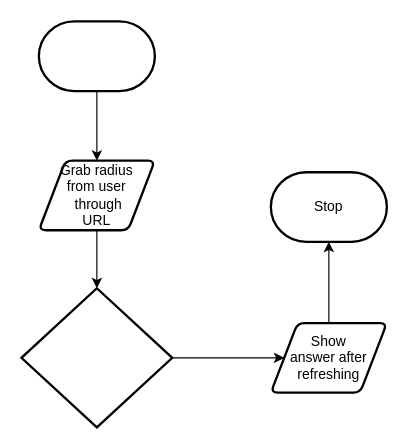
Image size: 407x448. Some labels were removed from this diagram. The centre of each missing label's shape, as x and y in pixels:
"Start" goes at (96,56).
"volume = 4/3 * Math.PI * Math.pow (radius, 3)" goes at (96,357).
